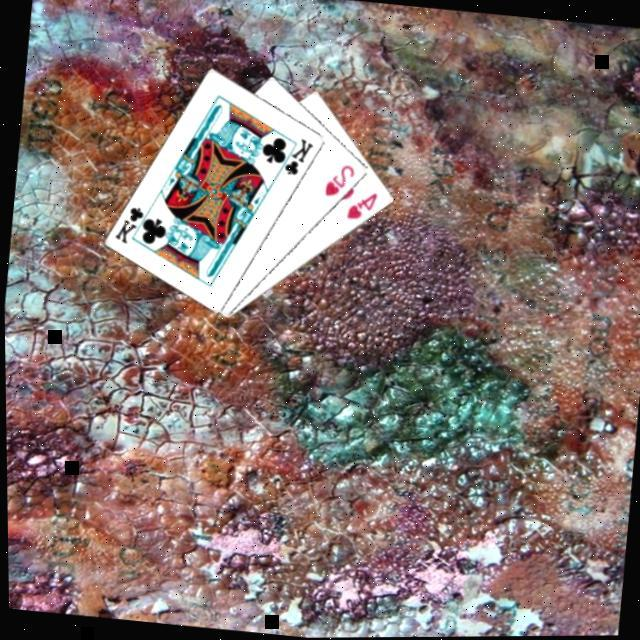2H: (322, 161, 359, 202)
4H: (344, 188, 382, 226)
KC: (275, 134, 318, 182), (112, 202, 154, 249)
